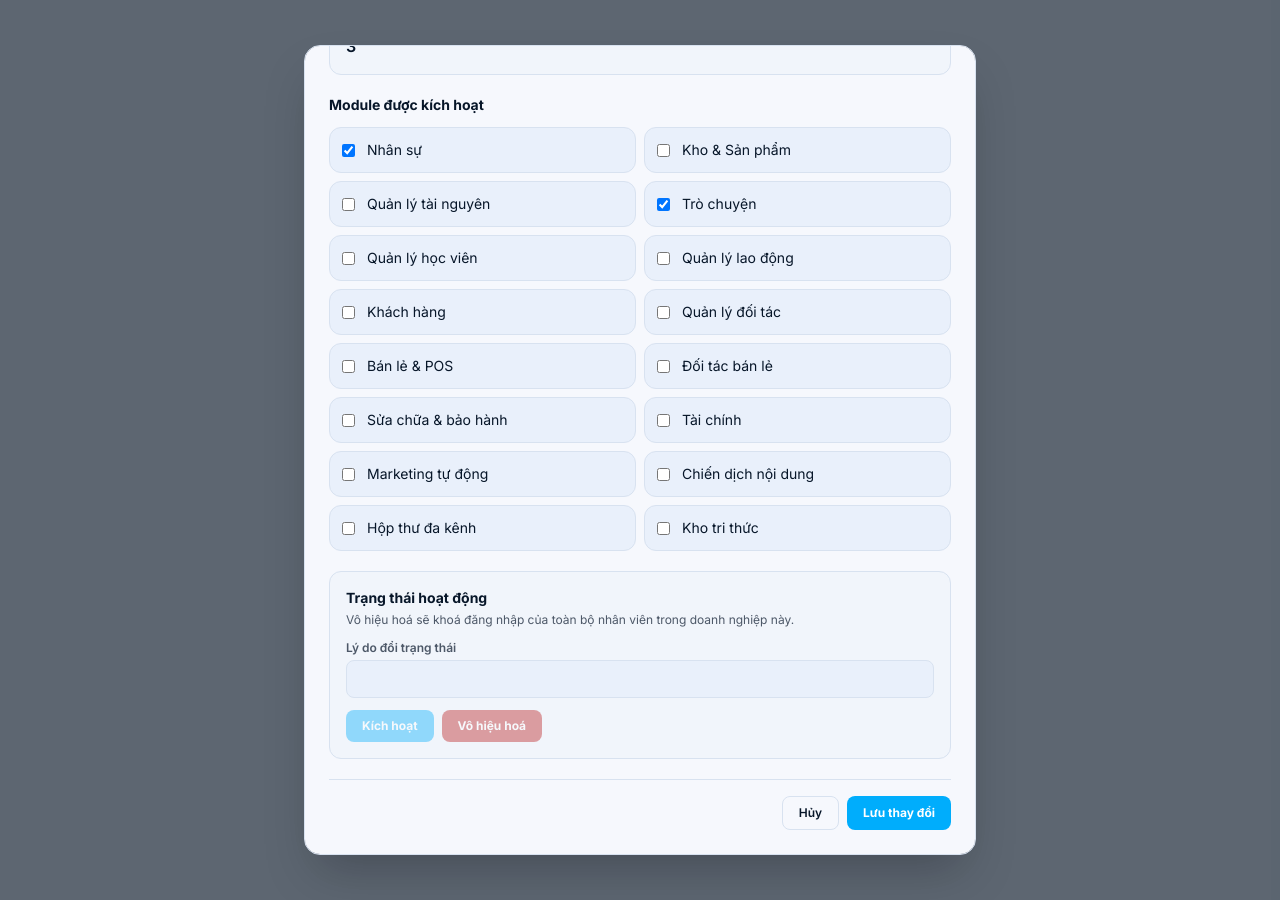
TenantModuleDialog › keeps the dialog open and reports API errors
This screenshot has width=1280, height=900.
(page scrolled)
What coordinates should you click on to do the following:
click the button "Lưu thay đổi"
I would click on:
 (899, 813)
Its box is [847,796,951,830].
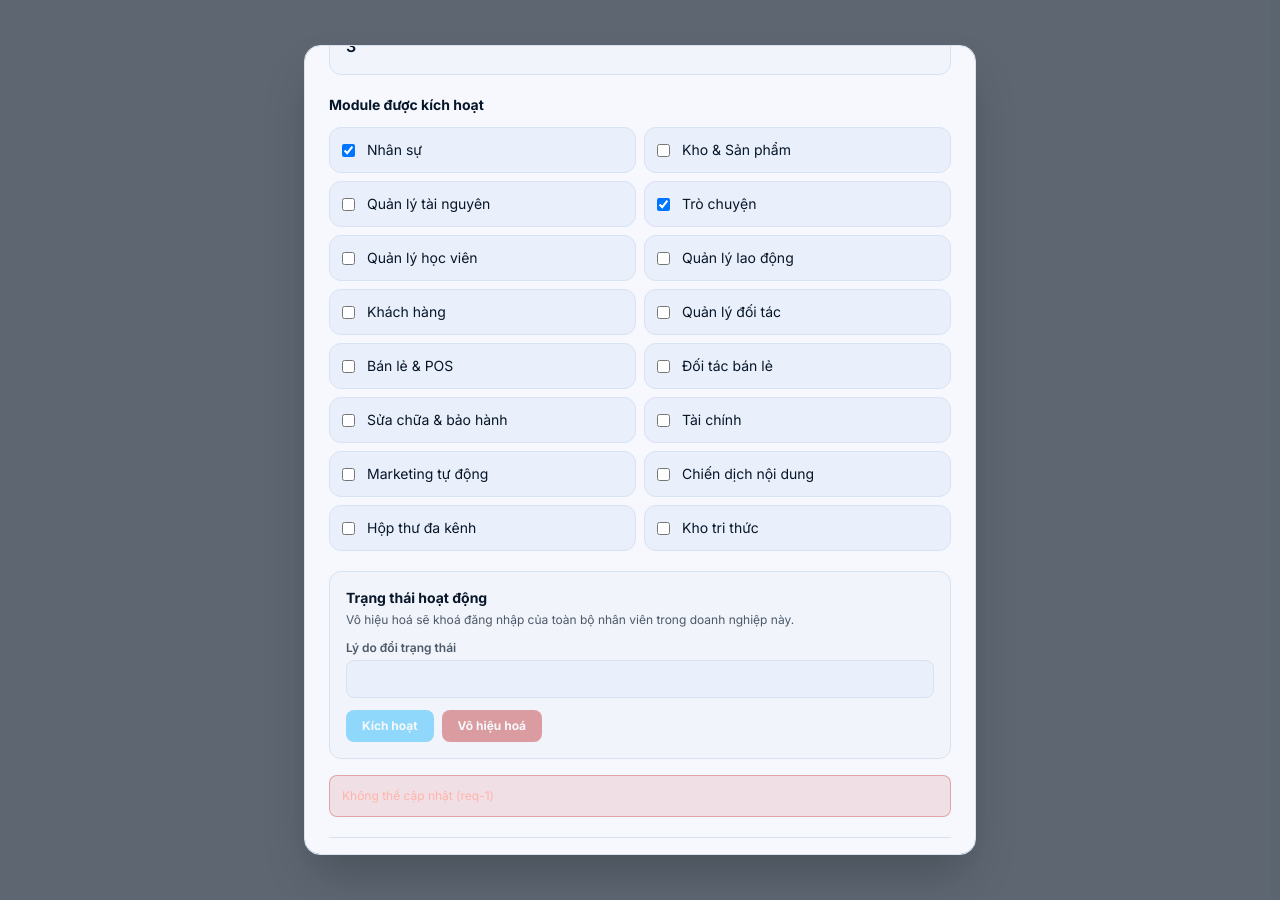
Expected: the dialog is shown, [304,45,976,855]
Expected: the text "Không thể cập nhật (req-1)" is shown, [329,775,951,817]
